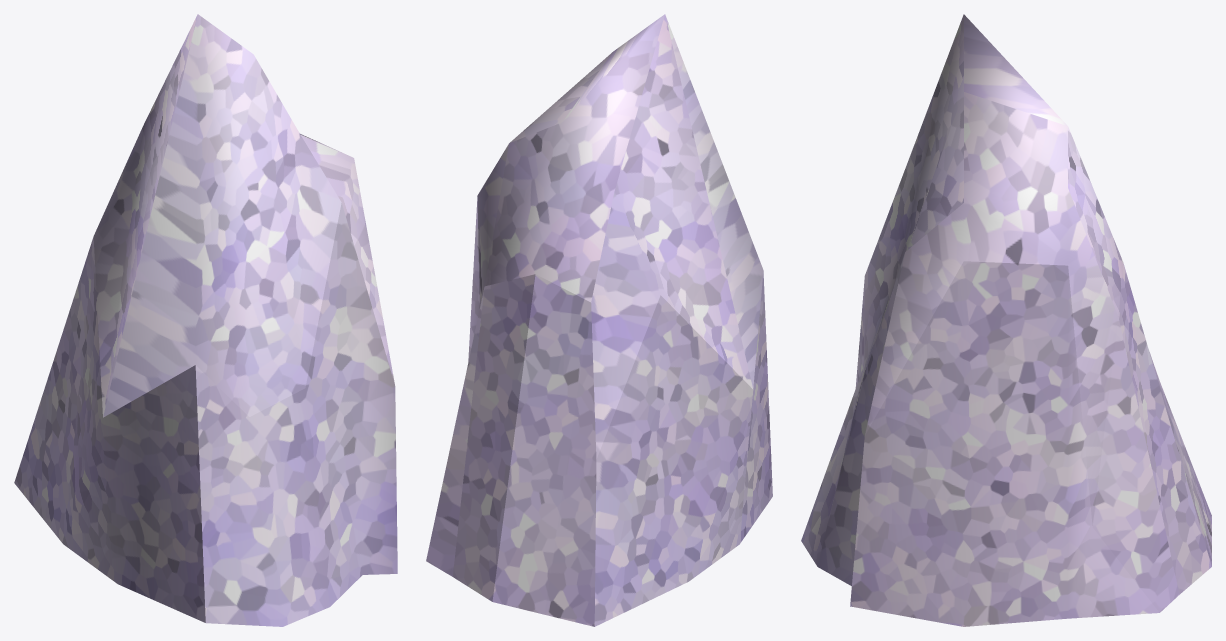
File: sugarcrystal.fbx
3 views of the same model, side by side, from view 1: azimuth 30°, elevation 25°; view 2: azimuth 150°, elevation 25°; view 3: azimuth 270°, elevation 25° (orthographic). The views are drawn at different scales.
Visible parts, largest first — view 1: pCube1; view 2: pCube1; view 3: pCube1.
Part boxes in pixels (<box>): pCube1: <box>14,14,397,626</box>; pCube1: <box>426,14,772,626</box>; pCube1: <box>801,14,1211,626</box>.
Bounding box in the file's own units: 4.55 × 8.58 × 6.06.
Materials: 1 (1 with a texture image).
